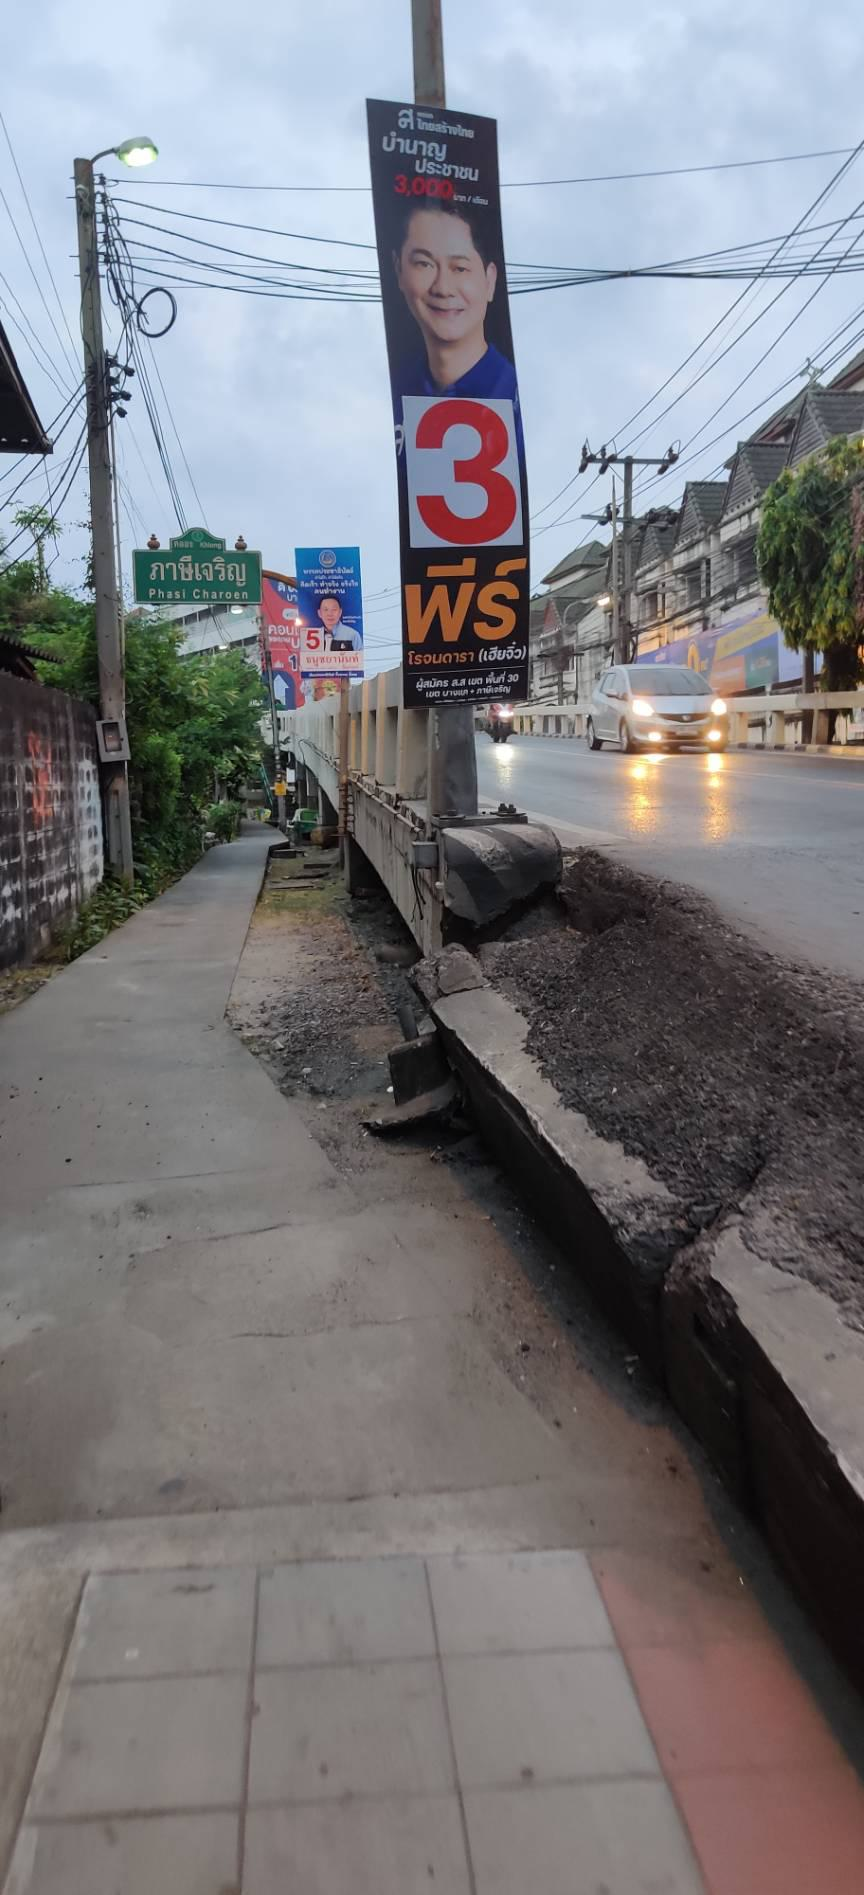Banner: (361, 95, 527, 691)
